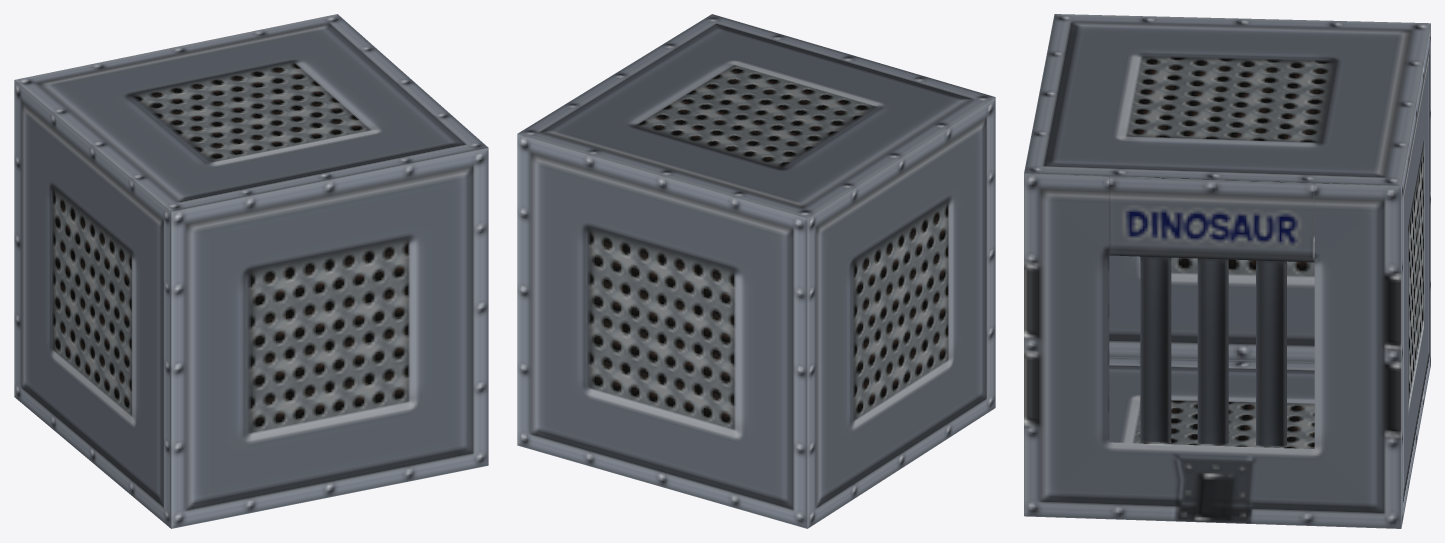
The model's file is bigcage04.glb.
3 views of the same model, side by side, from view 1: azimuth 30°, elevation 25°; view 2: azimuth 150°, elevation 25°; view 3: azimuth 270°, elevation 25° (orthographic). The views are drawn at different scales.
Visible parts, largest first — view 1: bigcage04; view 2: bigcage04; view 3: bigcage04.
Boxes of the visible parts, box(x1,y1,x2,y2) form: bigcage04: box(14, 14, 488, 528); bigcage04: box(517, 14, 995, 528); bigcage04: box(1024, 14, 1430, 528).
Bounding box in the file's own units: 626 × 582 × 625.
Materials: 2 (2 with a texture image).
